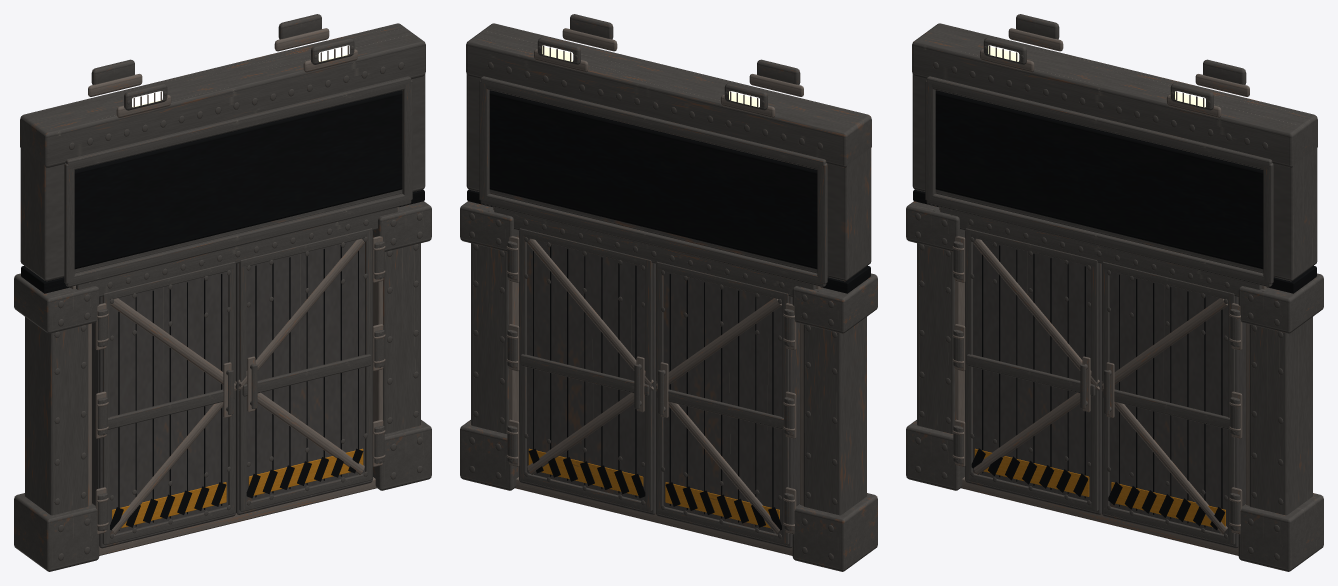
Rendered from main_gate.fbx.
3 renders of one model, left to right at view 1: azimuth 30°, elevation 25°; view 2: azimuth 150°, elevation 25°; view 3: azimuth 330°, elevation 25°, orthographic.
Parts seen in each view (by area): view 1: Main Frame, Right Leaf, Left Leaf; view 2: Main Frame, Right Leaf, Left Leaf; view 3: Main Frame, Left Leaf, Right Leaf.
Boxes of the visible parts, <box> form: Main Frame: <box>14,14,431,571</box>; Right Leaf: <box>236,228,385,514</box>; Left Leaf: <box>92,261,236,548</box>; Main Frame: <box>460,14,877,571</box>; Right Leaf: <box>506,228,655,514</box>; Left Leaf: <box>655,261,799,548</box>; Main Frame: <box>906,14,1323,571</box>; Left Leaf: <box>952,228,1101,514</box>; Right Leaf: <box>1101,261,1245,548</box>.
Size of the model in its own units: 968 by 1106 by 180.
Materials: 6 (5 with a texture image).
